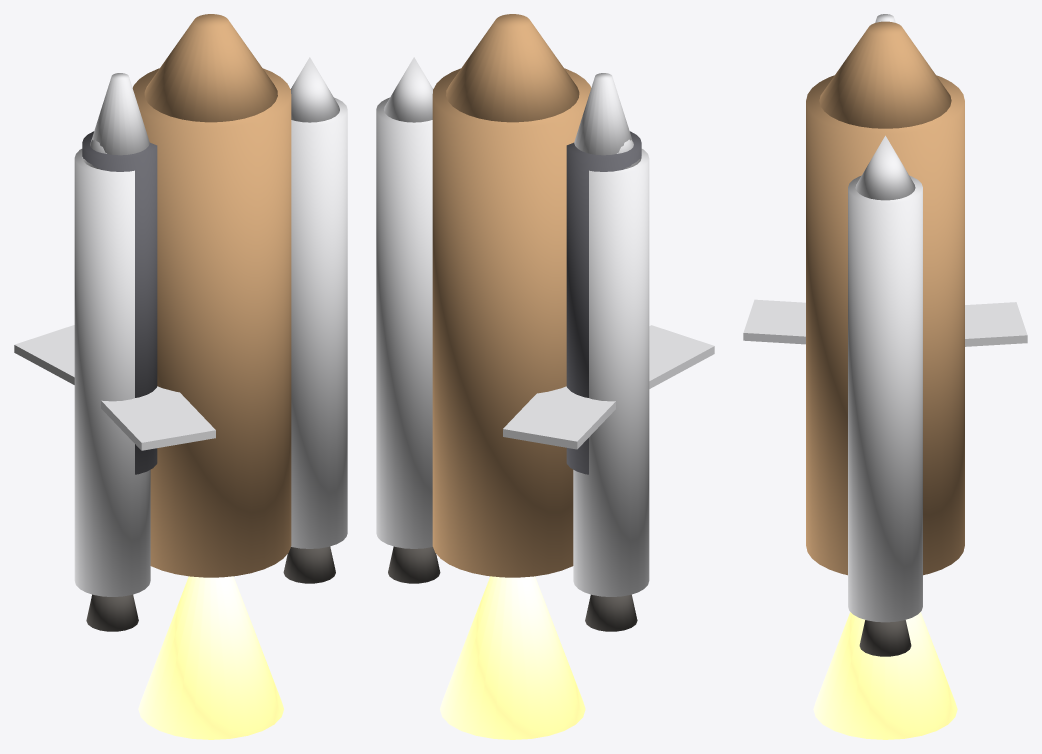
Rendered from shuttle.glb.
3 renders of one model, left to right at view 1: azimuth 30°, elevation 25°; view 2: azimuth 150°, elevation 25°; view 3: azimuth 270°, elevation 25°, orthographic.
Parts seen in each view (by area): view 1: shuttle_tank, shuttle_srb-1, shuttle_srb1, shuttle_flame, shuttle_tanknose, shuttle_fus, shuttle_wing-1, shuttle_fusn, shuttle_wing1, shuttle_srbn1, shuttle_srbnz-1, shuttle_srbnz1; view 2: shuttle_tank, shuttle_srb-1, shuttle_srb1, shuttle_flame, shuttle_tanknose, shuttle_fus, shuttle_wing1, shuttle_fusn, shuttle_wing-1, shuttle_srbn1, shuttle_srbnz-1, shuttle_srbnz1; view 3: shuttle_tank, shuttle_srb1, shuttle_flame, shuttle_tanknose, shuttle_wing1, shuttle_wing-1, shuttle_srbn1, shuttle_srbnz1.
Boxes of the visible parts, x1=… form: shuttle_tank: x1=132, y1=68, x2=291, y2=577; shuttle_srb-1: x1=74, y1=149, x2=150, y2=596; shuttle_srb1: x1=291, y1=97, x2=347, y2=548; shuttle_flame: x1=138, y1=576, x2=283, y2=739; shuttle_tanknose: x1=144, y1=14, x2=277, y2=122; shuttle_fus: x1=82, y1=131, x2=157, y2=474; shuttle_wing-1: x1=101, y1=386, x2=215, y2=450; shuttle_fusn: x1=91, y1=73, x2=149, y2=155; shuttle_wing1: x1=14, y1=325, x2=74, y2=384; shuttle_srbn1: x1=290, y1=57, x2=339, y2=122; shuttle_srbnz-1: x1=86, y1=594, x2=138, y2=631; shuttle_srbnz1: x1=283, y1=546, x2=335, y2=583; shuttle_tank: x1=432, y1=68, x2=591, y2=577; shuttle_srb-1: x1=573, y1=149, x2=649, y2=596; shuttle_srb1: x1=376, y1=97, x2=432, y2=548; shuttle_flame: x1=440, y1=576, x2=585, y2=739; shuttle_tanknose: x1=446, y1=14, x2=579, y2=122; shuttle_fus: x1=566, y1=131, x2=641, y2=474; shuttle_wing1: x1=503, y1=386, x2=615, y2=449; shuttle_fusn: x1=574, y1=73, x2=632, y2=155; shuttle_wing-1: x1=649, y1=325, x2=714, y2=388; shuttle_srbn1: x1=384, y1=57, x2=433, y2=122; shuttle_srbnz-1: x1=585, y1=594, x2=637, y2=631; shuttle_srbnz1: x1=388, y1=546, x2=440, y2=583; shuttle_tank: x1=806, y1=75, x2=964, y2=575; shuttle_srb1: x1=848, y1=175, x2=922, y2=622; shuttle_flame: x1=813, y1=612, x2=957, y2=739; shuttle_tanknose: x1=819, y1=21, x2=951, y2=128; shuttle_wing1: x1=965, y1=302, x2=1027, y2=346; shuttle_wing-1: x1=743, y1=299, x2=805, y2=344; shuttle_srbn1: x1=855, y1=135, x2=915, y2=200; shuttle_srbnz1: x1=859, y1=620, x2=911, y2=656.
Bounding box in the file's own units: 2.11 × 5.2 × 1.97.
